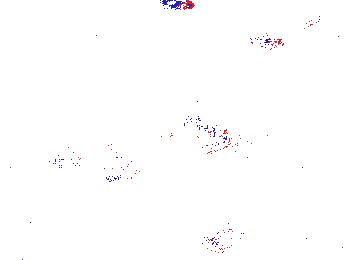X-ray fish: (58, 138, 135, 189), (156, 110, 233, 157), (202, 231, 248, 252), (1, 230, 42, 253)
red belly glassfish: (248, 33, 285, 52), (164, 1, 198, 12)
redtail glassfish: (304, 8, 346, 40)
